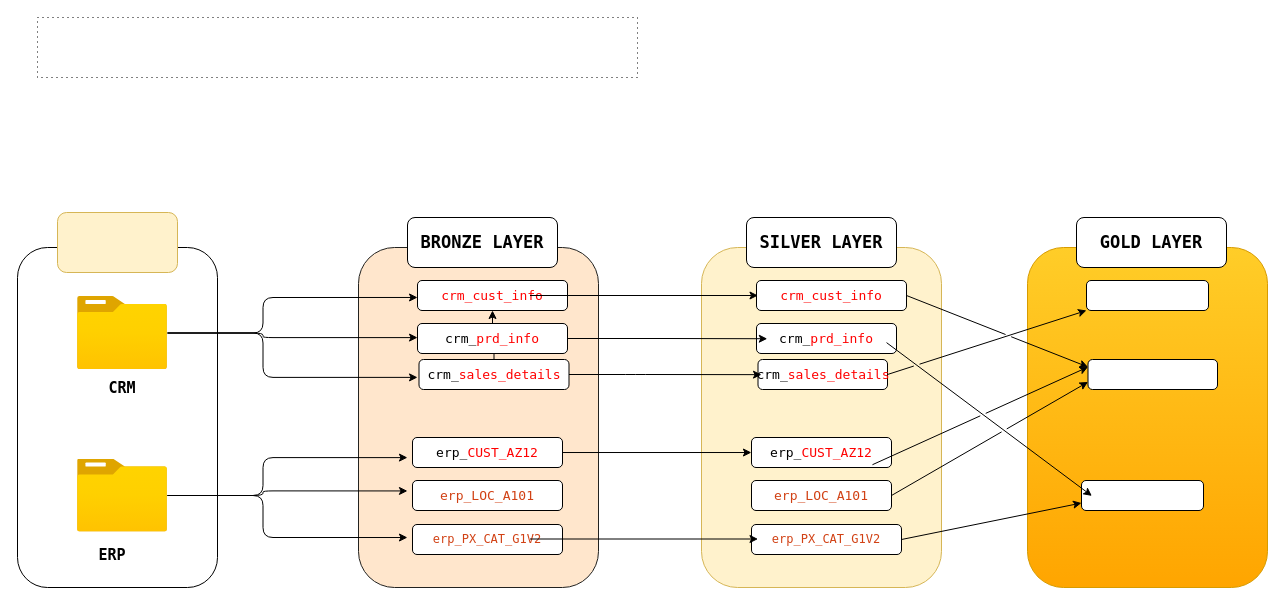
This 1285x605 diagram has some shape labels left out. Here are the shapes that lost their labels. From the top down, the centre of each, then its label:
At (337,47): "DATAFLOW DIAGRAM".
At (117,242): "SOURCES".
At (1147,295): "fact_sales".
At (1152,374): "dim_customers".
At (1142,495): "dim_products".
